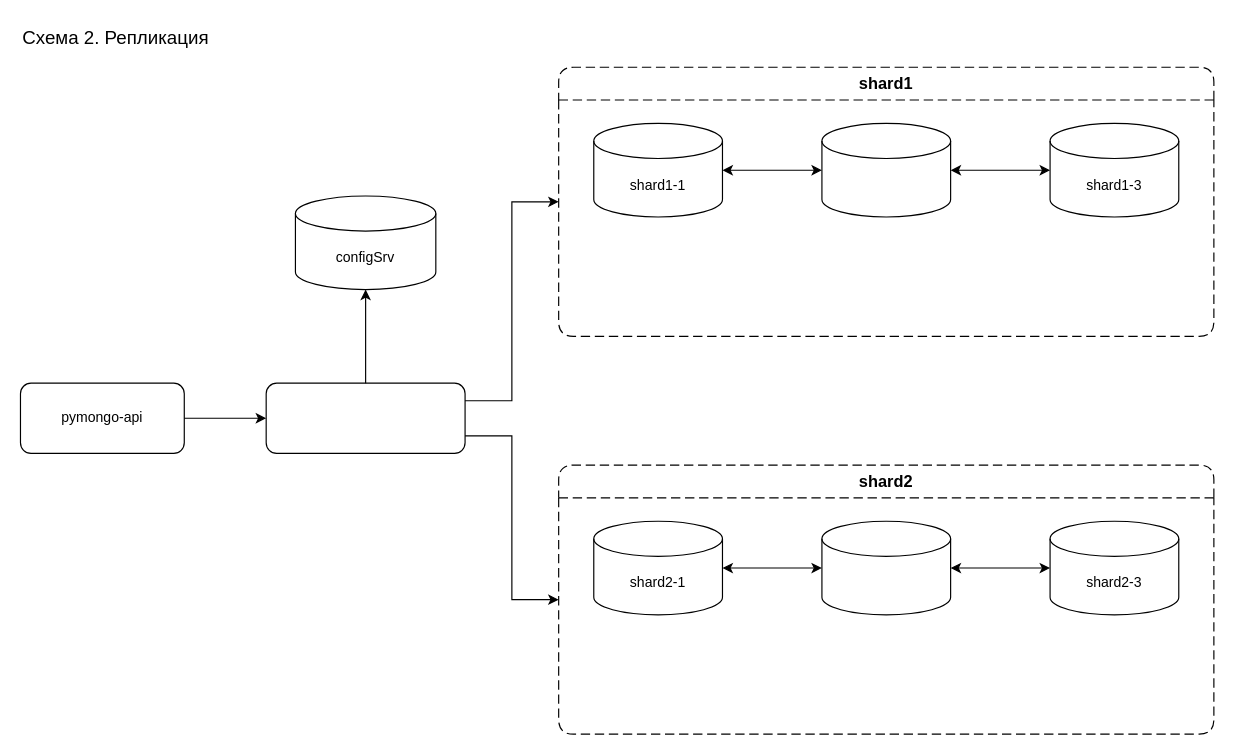
This 1234x755 diagram has some shape labels left out. The shapes that lost their labels are listed below. From the top down, each one's centre as x and y in pixels, then its label:
At point (886, 169): "shard1-2".
At point (365, 417): "mongos_router".
At point (886, 567): "shard2-2".
